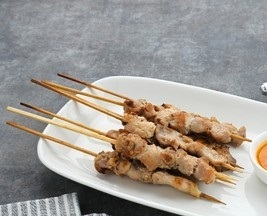sate: (4, 71, 249, 206)
